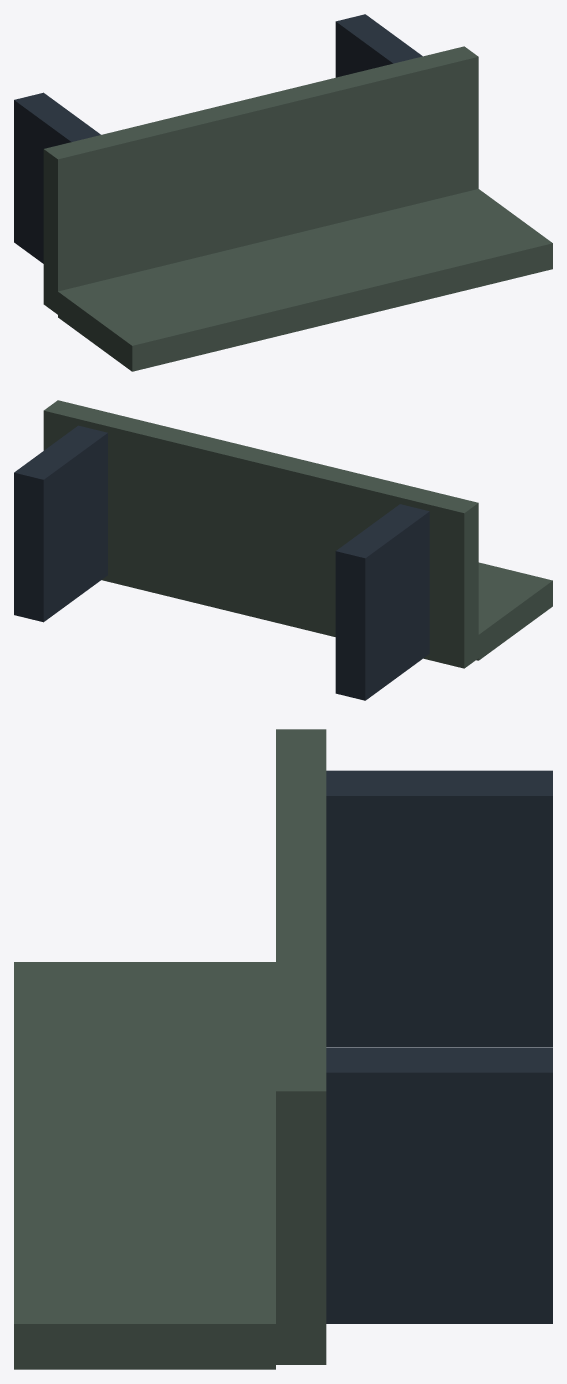
File: ENV_prop_bench.obj
3 renders of one model, top to bottom at view 1: azimuth 30°, elevation 25°; view 2: azimuth 150°, elevation 25°; view 3: azimuth 270°, elevation 25°, orthographic. The views are drawn at different scales.
Visible parts, largest first — view 1: ENV_prop_bench; view 2: ENV_prop_bench; view 3: ENV_prop_bench.
Part boxes in pixels (x1=…): ENV_prop_bench: x1=14, y1=14, x2=552, y2=371; ENV_prop_bench: x1=14, y1=400, x2=552, y2=700; ENV_prop_bench: x1=14, y1=729, x2=552, y2=1369.
Size of the model in its own units: 1.7 by 0.61 by 1.07.
